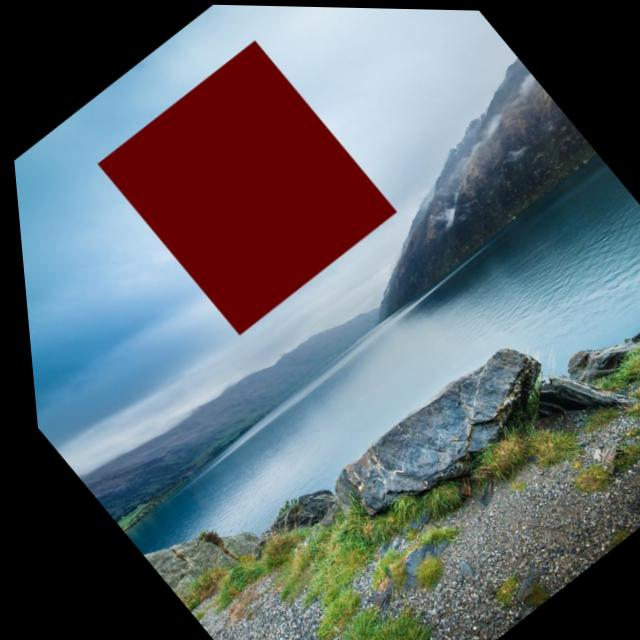RedSquare: (79, 27, 410, 341)
